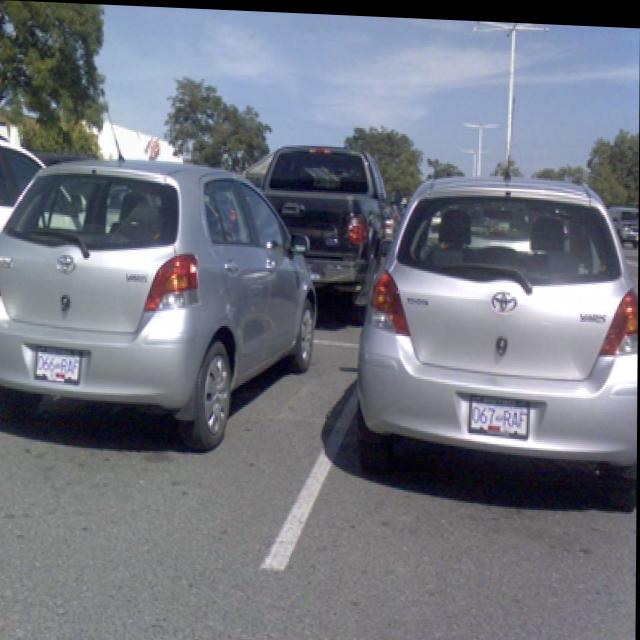licence: (470, 392, 528, 434), (33, 345, 83, 385)
